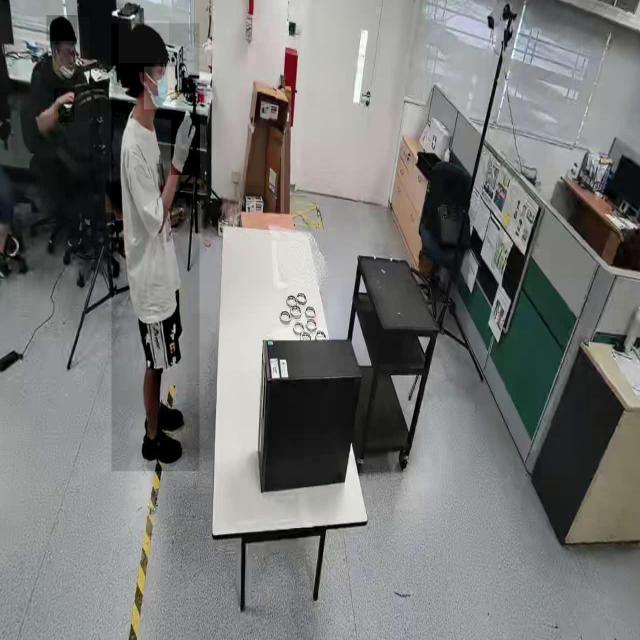face_mask: (144, 67, 176, 110)
hand_glove: (171, 116, 201, 175)
hand_noglove: (54, 88, 75, 124)
head_nohelmet: (119, 20, 170, 64), (46, 15, 78, 42)
person: (112, 23, 200, 472), (18, 17, 90, 159)
shoes: (140, 428, 187, 468), (139, 395, 186, 433)
